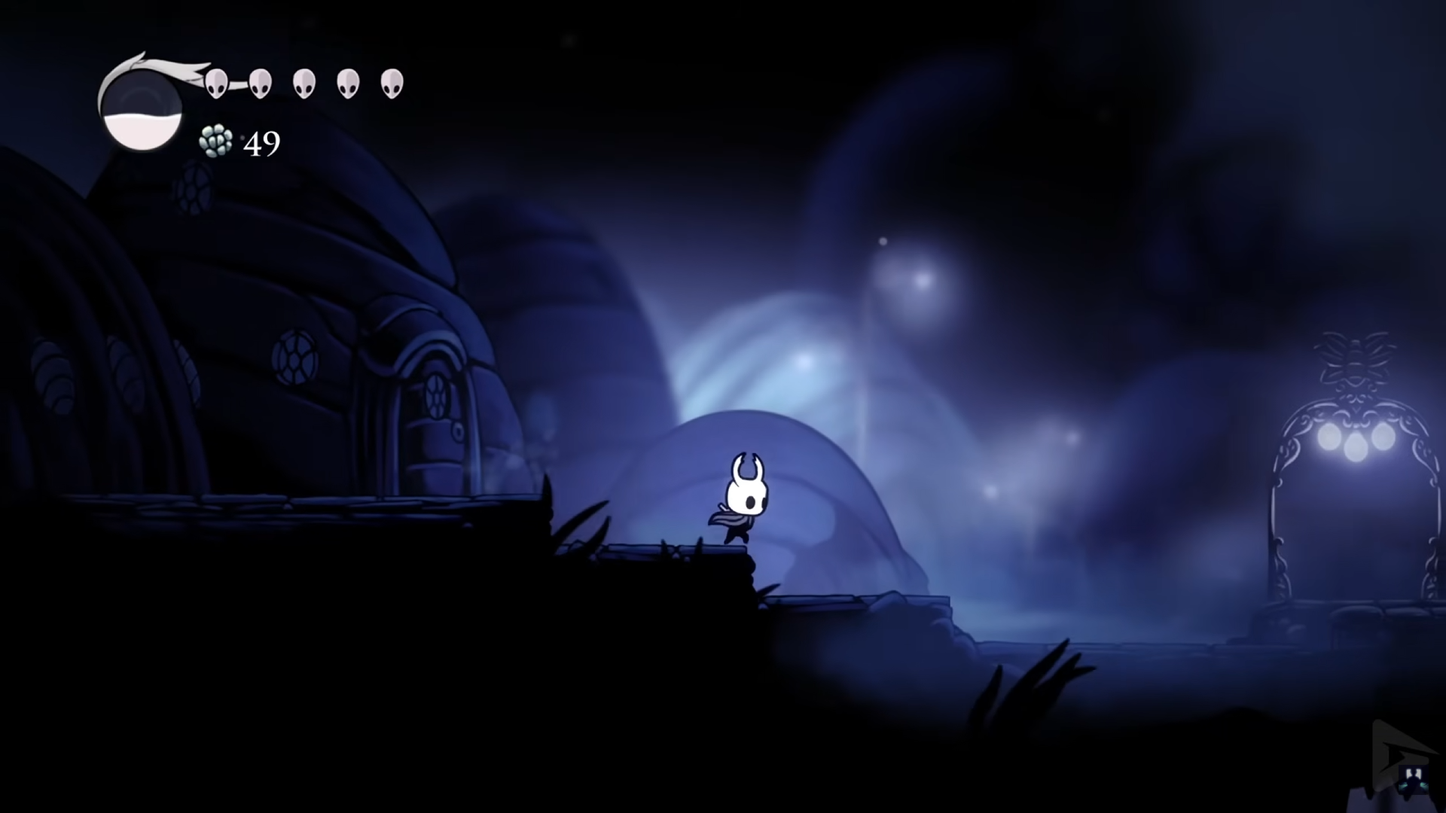HK: (709, 452, 773, 549)
